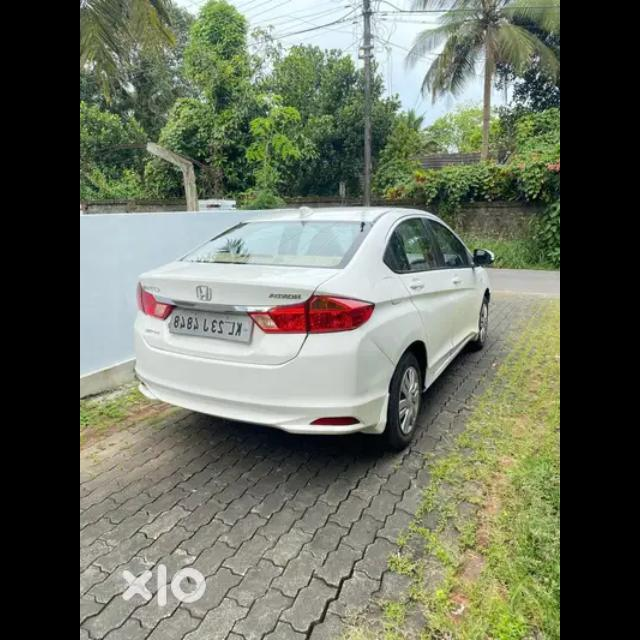vehicles: (134, 205, 492, 445)
